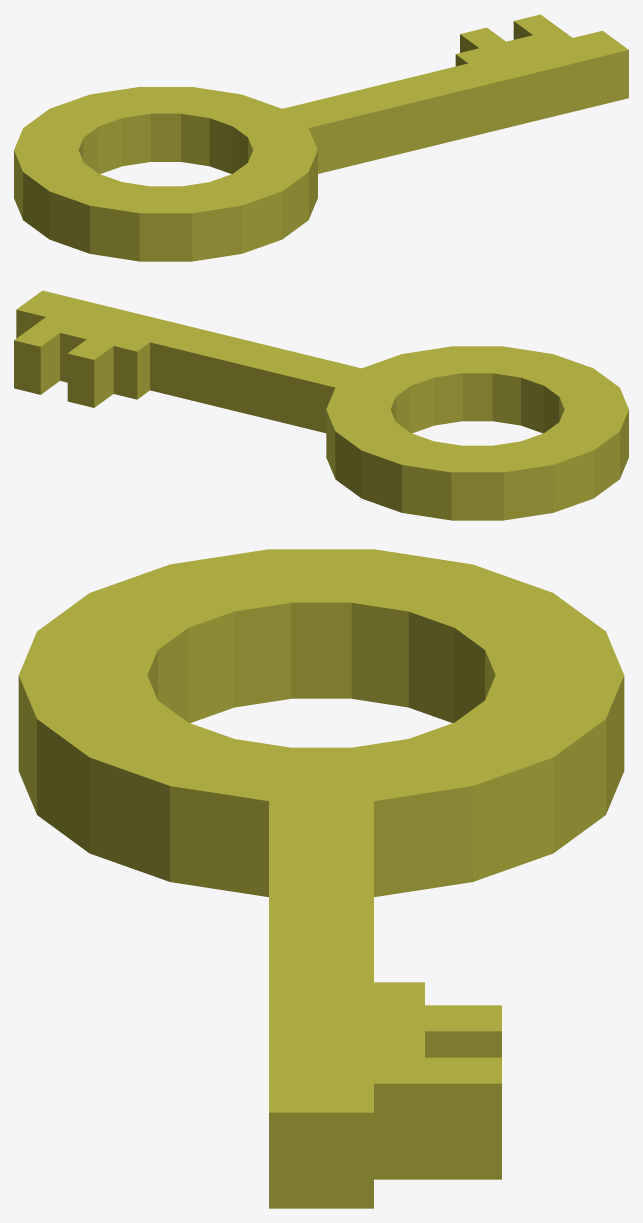
The model's file is Key.fbx.
3 renders of one model, top to bottom at view 1: azimuth 30°, elevation 25°; view 2: azimuth 150°, elevation 25°; view 3: azimuth 270°, elevation 25°, orthographic. The views are drawn at different scales.
Parts seen in each view (by area): view 1: Cylinder; view 2: Cylinder; view 3: Cylinder.
Boxes of the visible parts, x1,y1,x2,y2 form: Cylinder: [14, 14, 628, 261]; Cylinder: [14, 290, 628, 520]; Cylinder: [18, 549, 624, 1208].
Size of the model in its own units: 176 by 14 by 80.
